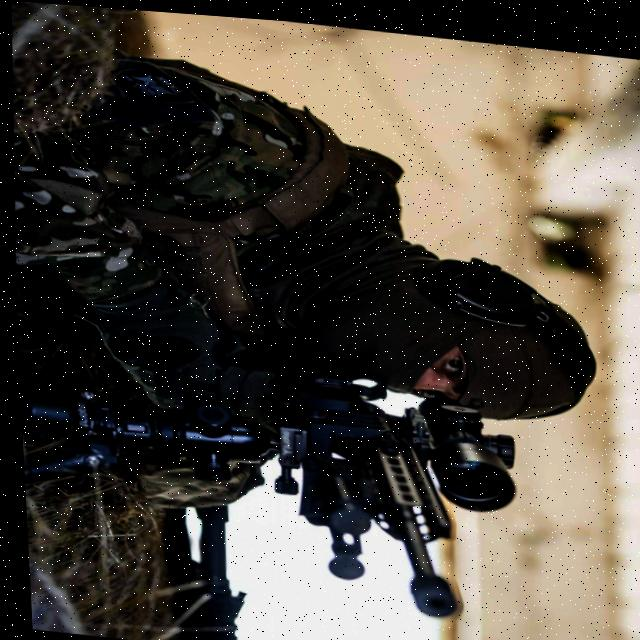firearm: (260, 365, 522, 618)
